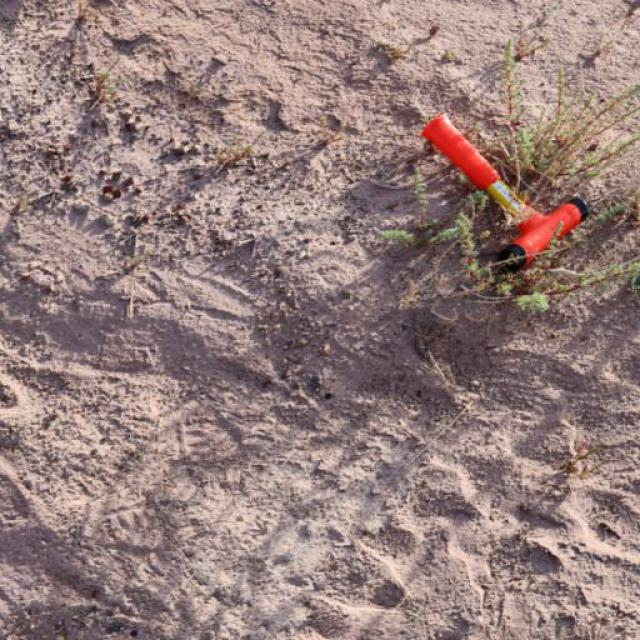mallet: (419, 111, 589, 274)
